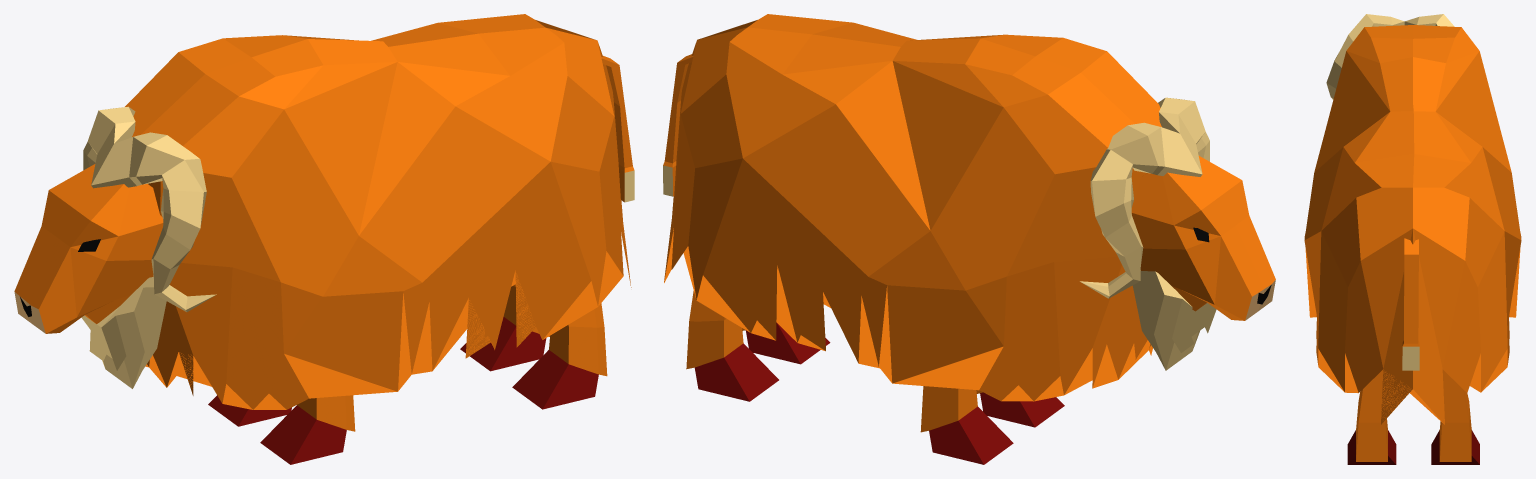
File: yak.glb
3 views of the same model, side by side, from view 1: azimuth 30°, elevation 25°; view 2: azimuth 150°, elevation 25°; view 3: azimuth 270°, elevation 25° (orthographic). The views are drawn at different scales.
Parts seen in each view (by area): view 1: 平面, 平面.001, 平面.005, 平面.002, 平面.003, 平面.004; view 2: 平面, 平面.001, 平面.005, 平面.002, 平面.003, 平面.004; view 3: 平面, 平面.005, 平面.004, 平面.002.
Part boxes in pixels (left/top/right/bottom): 平面: left=125, top=14, right=631, bottom=409; 平面.001: left=14, top=164, right=163, bottom=333; 平面.005: left=208, top=284, right=607, bottom=464; 平面.002: left=83, top=106, right=216, bottom=311; 平面.003: left=81, top=276, right=166, bottom=388; 平面.004: left=601, top=56, right=634, bottom=202; 平面: left=664, top=14, right=1161, bottom=401; 平面.001: left=1132, top=156, right=1275, bottom=320; 平面.005: left=686, top=291, right=1064, bottom=464; 平面.002: left=1080, top=97, right=1209, bottom=298; 平面.003: left=1132, top=271, right=1216, bottom=370; 平面.004: left=663, top=54, right=693, bottom=196; 平面: left=1304, top=25, right=1521, bottom=424; 平面.005: left=1347, top=369, right=1479, bottom=464; 平面.004: left=1402, top=238, right=1419, bottom=370; 平面.002: left=1326, top=14, right=1454, bottom=99.
Bounding box in the file's own units: 5.14 × 3.14 × 1.98.
